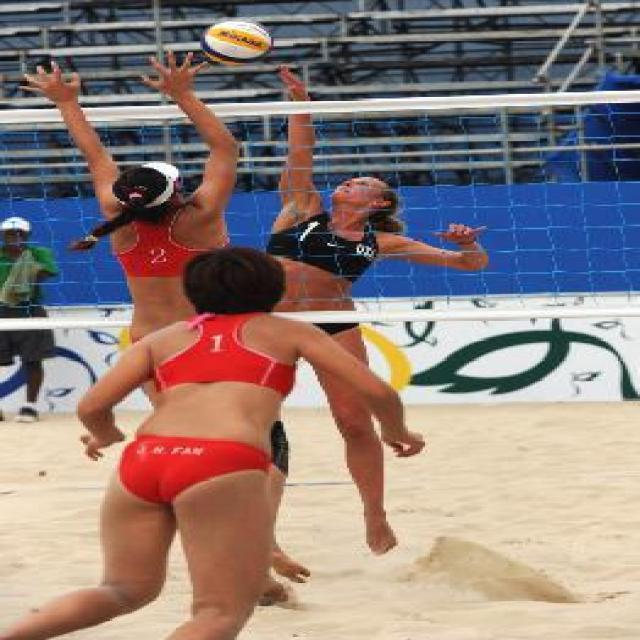volleyball: (201, 18, 272, 66)
